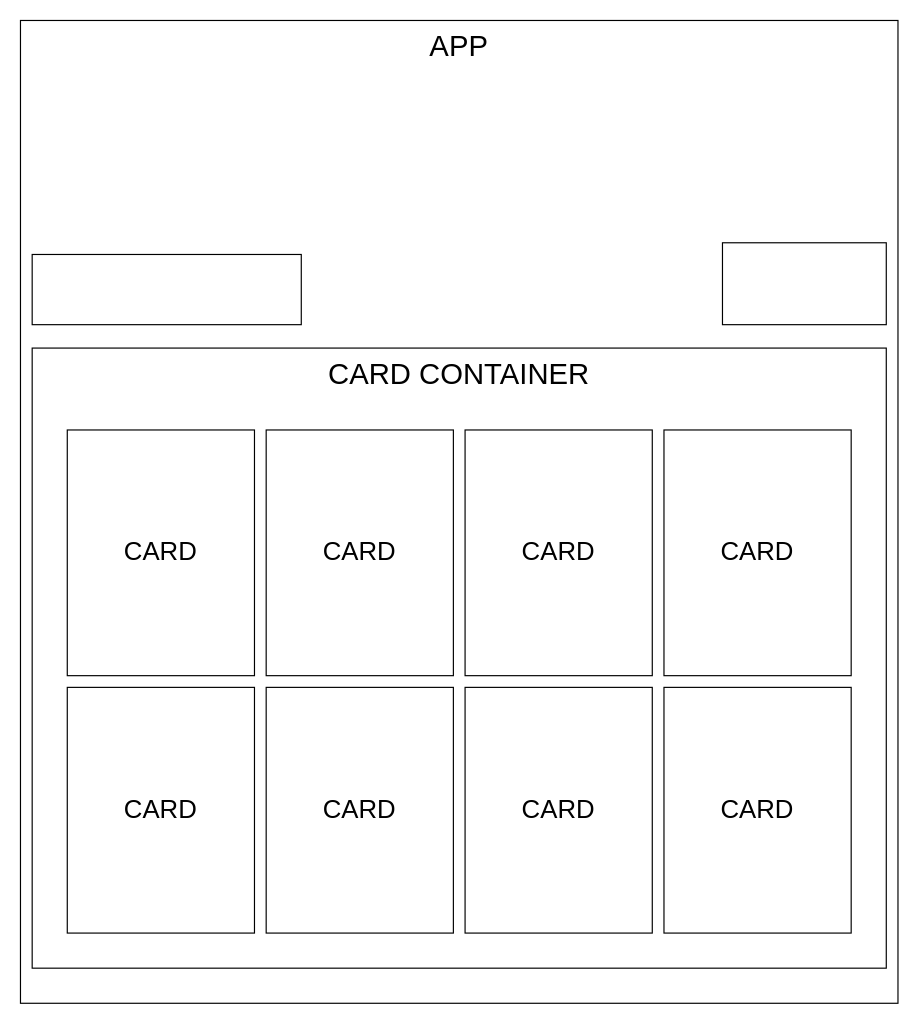
Some shapes in this 918 by 1024 pixel diagram are drawn without their labels. Each missing label, with the centre of its shape:
"HEADER / TITLE" belongs at pixel 166 289.
"SCOREBOARD" belongs at pixel 803 283.
